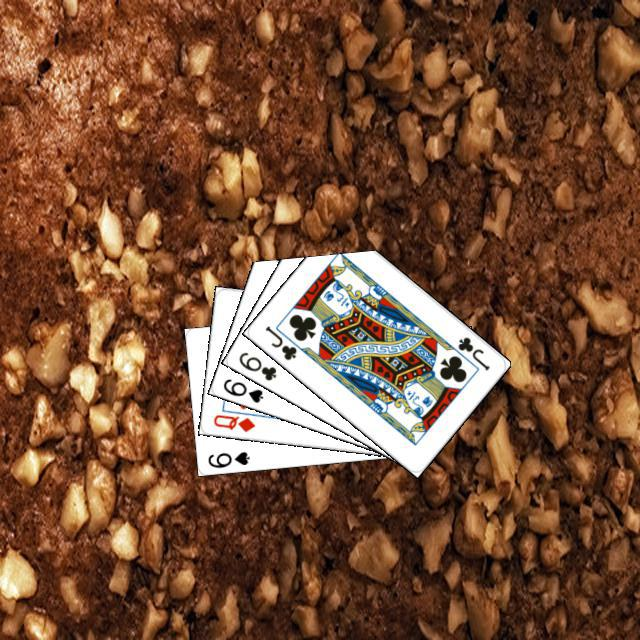6c: (234, 347, 278, 382)
6s: (218, 374, 265, 404), (203, 446, 251, 469)
Jc: (260, 321, 299, 362), (453, 332, 491, 372)
Qd: (209, 409, 256, 433)
